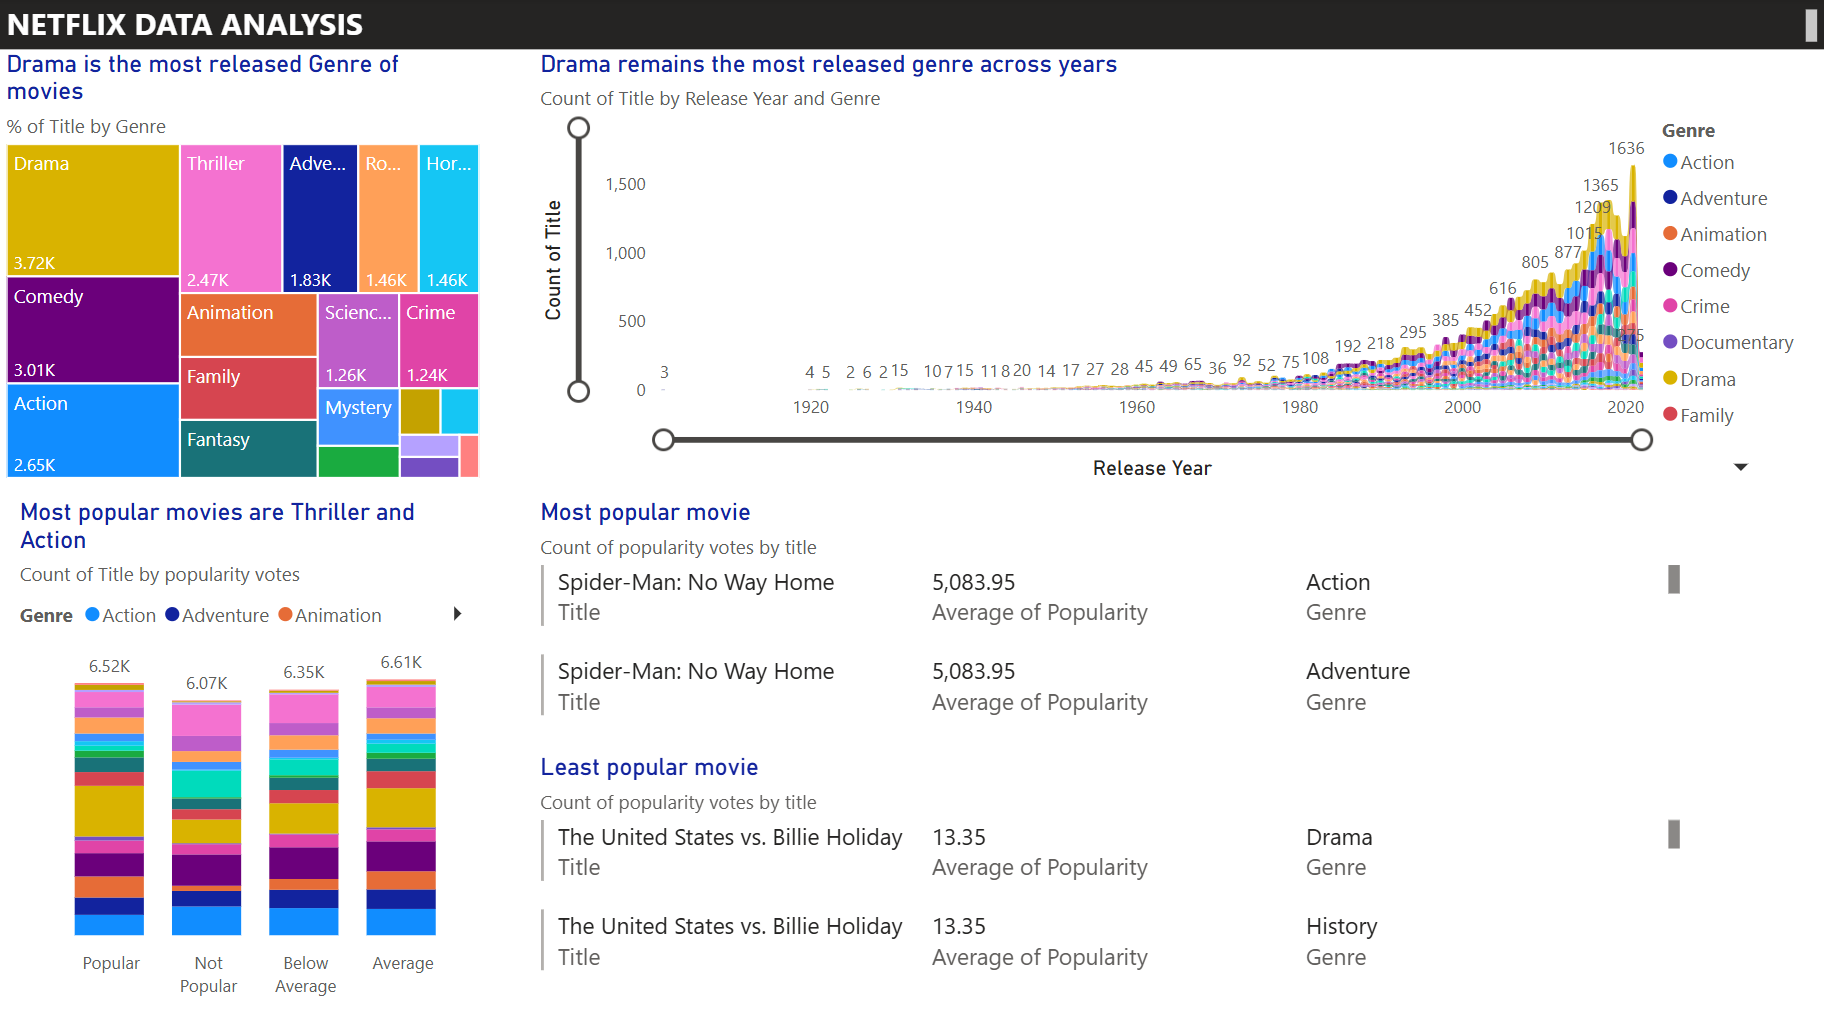

The dashboard page shown, as its layout file describes it:
{"tool":"powerbi","page":{"name":"Page 1","canvas":[1280,720],"ordinal":0},"visuals":[{"type":"treemap","title":"Drama is the most released Genre of movies","fields":{"Details":["Netflix_data_PowerbiReady.Genre"],"Values":["Netflix_data_PowerbiReady.Title"]},"box":[0,35.8,341.8,306],"z":0},{"type":"ribbonChart","title":"Drama remains the most released genre across years","fields":{"Category":["Netflix_data_PowerbiReady.Release Year"],"Series":["Netflix_data_PowerbiReady.Genre"],"Y":["Netflix_data_PowerbiReady.Title"]},"box":[374.4,35.8,905.4,306],"z":1000},{"type":"columnChart","title":"Most popular movies are Thriller and Action","fields":{"Category":["Netflix_data_PowerbiReady.Vote_Average_Category"],"Series":["Netflix_data_PowerbiReady.Genre"],"Y":["Netflix_data_PowerbiReady.Title"]},"box":[9.9,350.4,331.7,358.1],"z":2000},{"type":"actionButton","box":[0,0,100,40],"z":3000},{"type":"multiRowCard","title":"Most popular movie","fields":{"Values":["Netflix_data_PowerbiReady.Title","Netflix_data_PowerbiReady.Popularity","Colours.Genre"]},"box":[374.9,350.4,809,166.2],"z":4000},{"type":"multiRowCard","title":"Least popular movie","fields":{"Values":["Netflix_data_PowerbiReady.Title","Netflix_data_PowerbiReady.Popularity","Colours.Genre"]},"box":[374.9,529.4,809,159.7],"z":4001}]}

Visuals, with their boxes in screenshot pixels (x1, y1, x2, y2), scaled from the page's 1280x720 canvas onto the 1824x1011 screenshot:
"Drama is the most released Genre of movies" treemap: bbox=(0, 50, 487, 480)
"Drama remains the most released genre across years" ribbonChart: bbox=(534, 50, 1823, 480)
"Most popular movies are Thriller and Action" columnChart: bbox=(14, 492, 487, 995)
actionButton: bbox=(0, 0, 142, 56)
"Most popular movie" multiRowCard: bbox=(534, 492, 1687, 725)
"Least popular movie" multiRowCard: bbox=(534, 743, 1687, 968)
